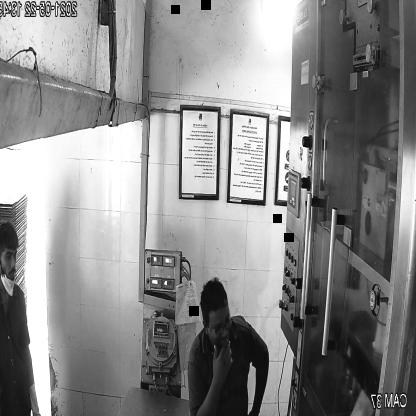goggles: (204, 314, 234, 336)
no_goggles: (0, 247, 20, 263)
